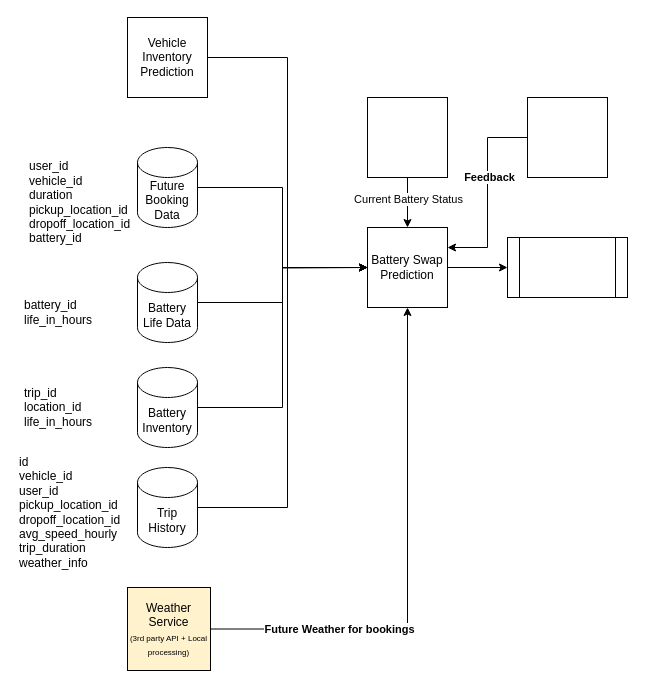
Some shapes in this 645 by 688 pixel diagram are drawn without their labels. Each missing label, with the centre of its shape:
"Battery Swap Data (from Technicians)" belongs at point (567, 137).
"Vehicle Telemetry" belongs at point (407, 137).
"vehicle_id location_id battery_id date_time" belongs at point (567, 267).
